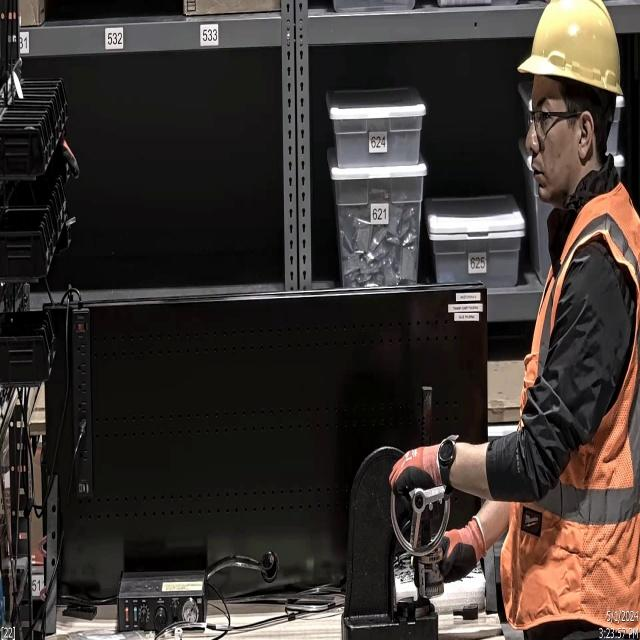construction-gloves: (404, 512, 490, 592), (386, 432, 468, 512)
